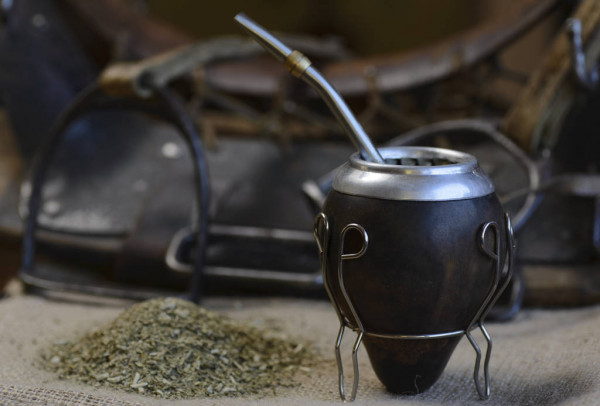calabaza: (307, 135, 510, 404)
mate: (309, 137, 512, 406)
